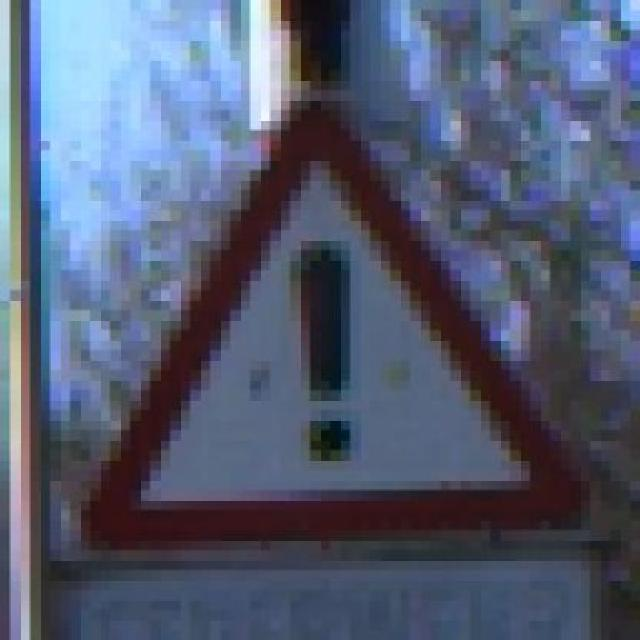Attention Please-: (79, 95, 598, 554)
